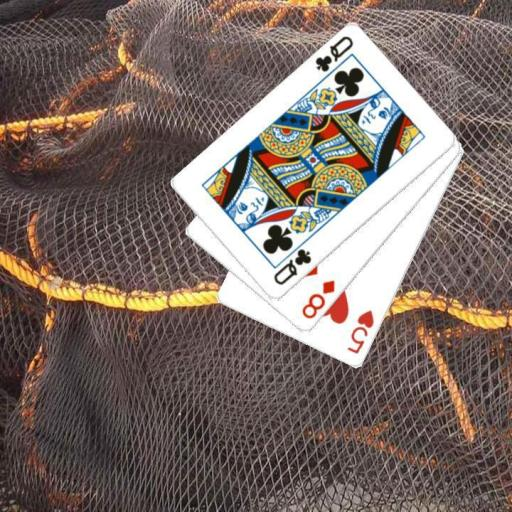card-corner: (311, 32, 355, 74), (270, 246, 313, 288), (299, 276, 337, 322), (344, 307, 376, 356)
